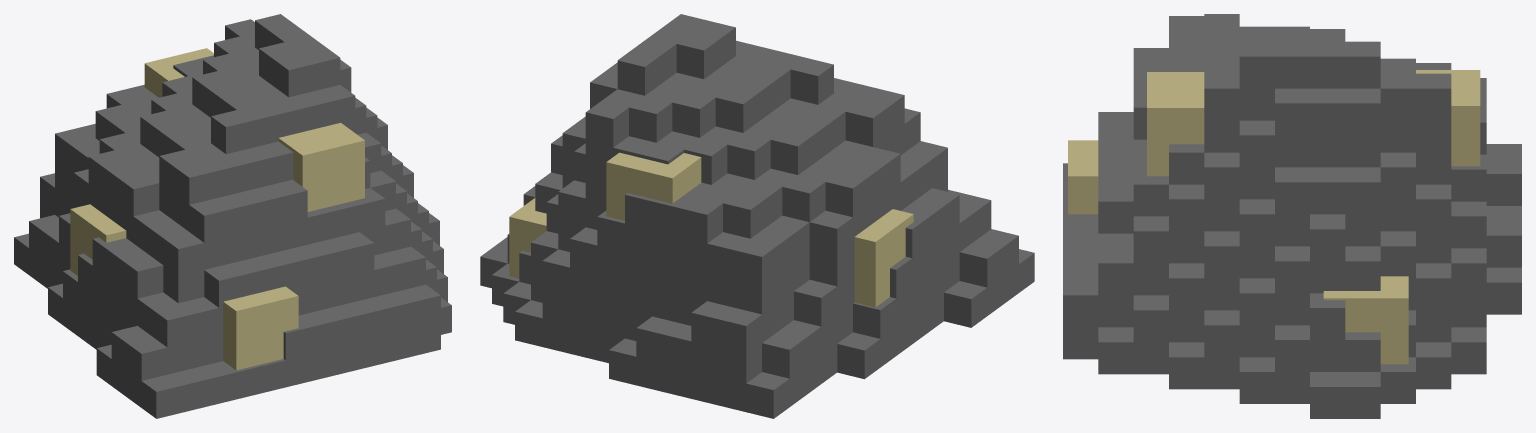
Rendered from iron_ore.fbx.
3 views of the same model, side by side, from view 1: azimuth 30°, elevation 25°; view 2: azimuth 150°, elevation 25°; view 3: azimuth 270°, elevation 25° (orthographic). The views are drawn at different scales.
Parts seen in each view (by area): view 1: Cube, Cube.001, Cube.005, Cube.002, Cube.003; view 2: Cube, Cube.003, Cube.002, Cube.004; view 3: Cube, Cube.001, Cube.004, Cube.003, Cube.005.
Part boxes in pixels (x1,y1,x2,y2): Cube: (14,14,451,418); Cube.001: (278,123,364,211); Cube.005: (223,286,298,370); Cube.002: (70,204,126,275); Cube.003: (144,48,213,97); Cube: (480,14,1034,418); Cube.003: (606,152,701,220); Cube.002: (854,209,913,307); Cube.004: (509,198,546,278); Cube: (1063,14,1521,418); Cube.001: (1147,72,1204,176); Cube.004: (1323,276,1408,364); Cube.003: (1416,70,1480,166); Cube.005: (1068,140,1098,214).
Bounding box in the file's own units: 332 × 199 × 288.
